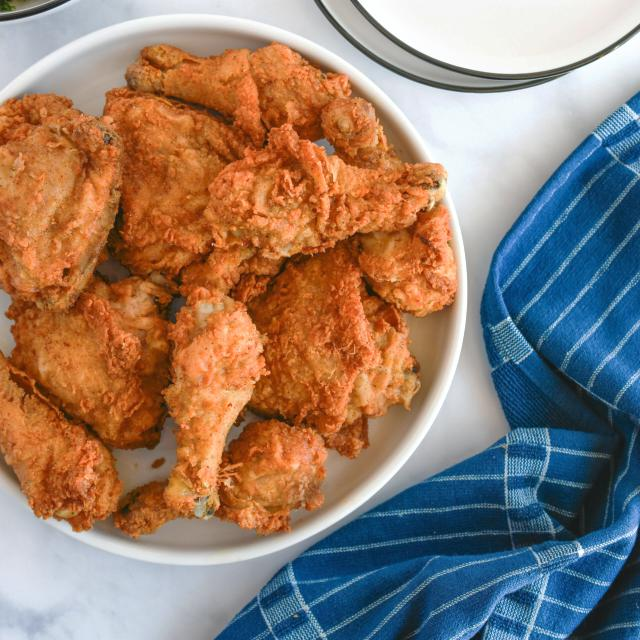fried_chicken: (4, 46, 452, 540)
